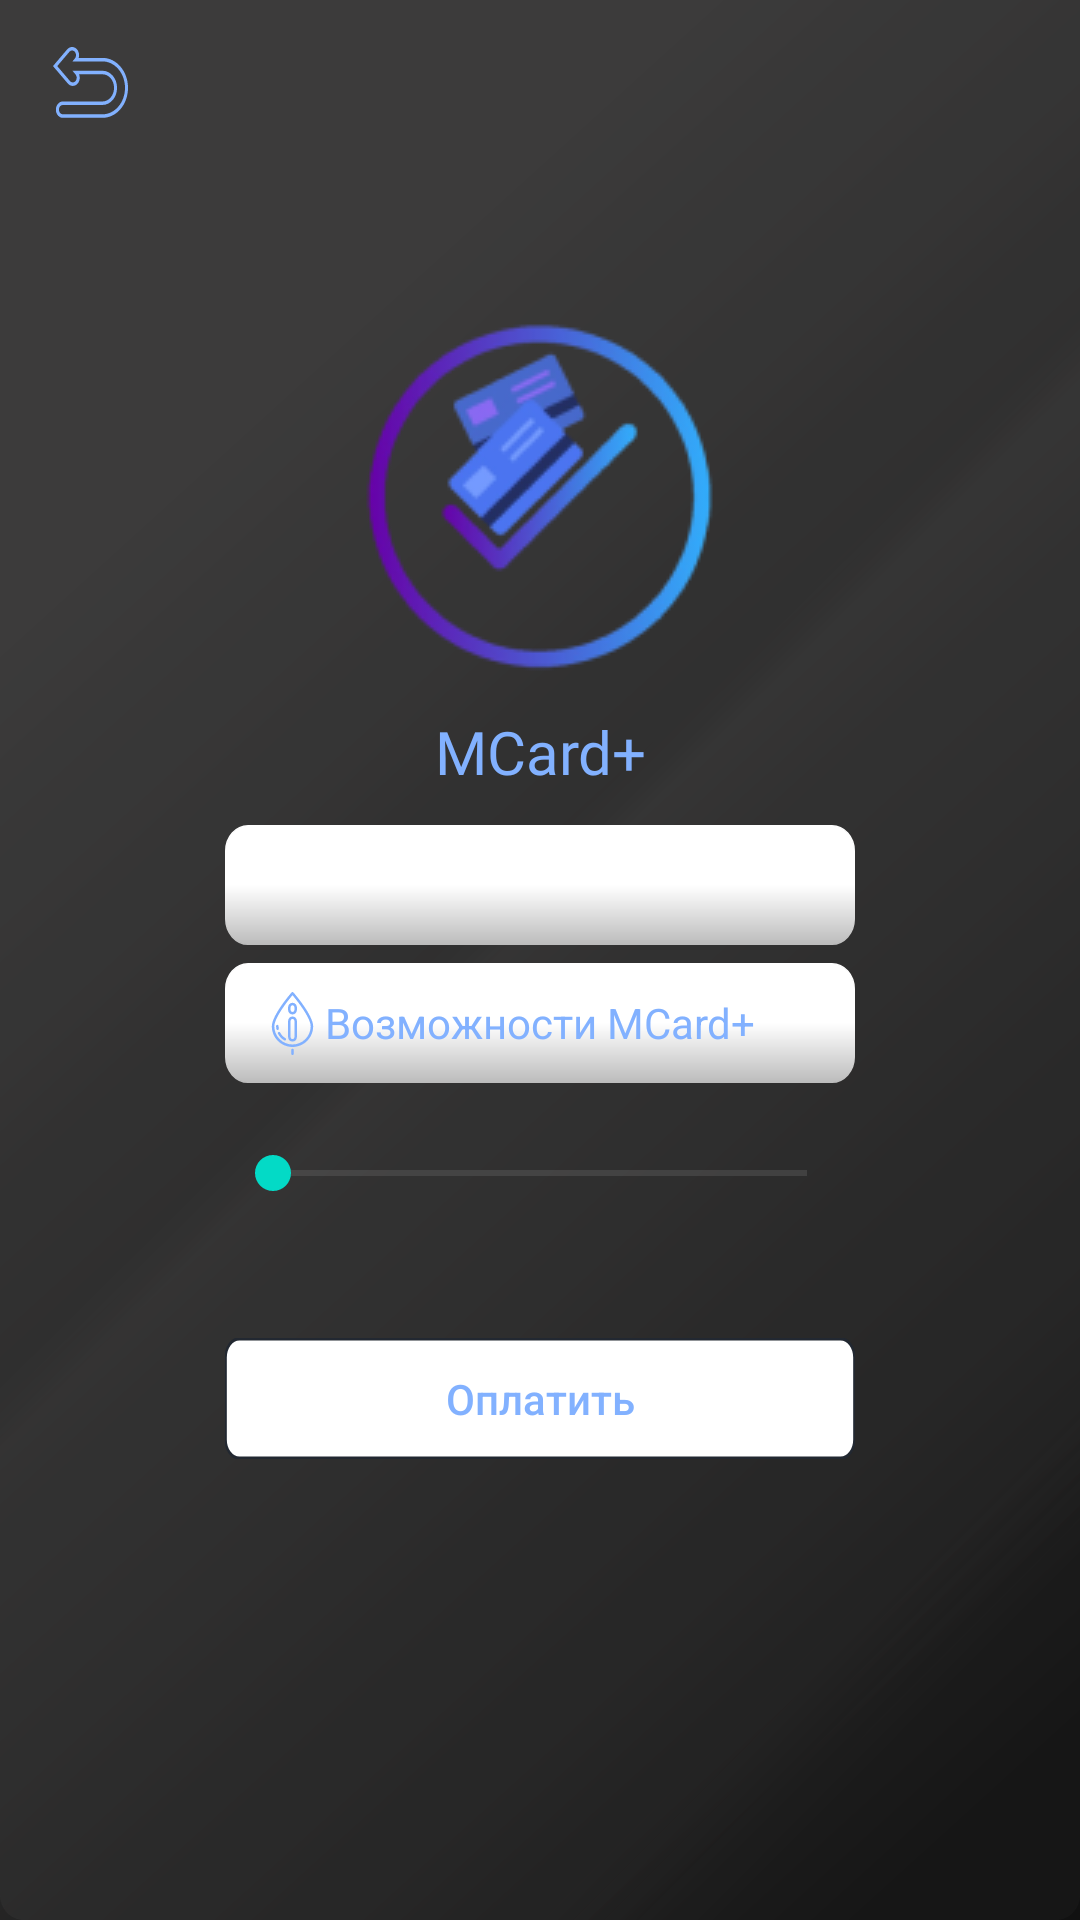

Screen size 1080×1920. Icon name, then its box in pixels as (x1, y1, x2, y2):
back: (53, 47, 128, 118)
